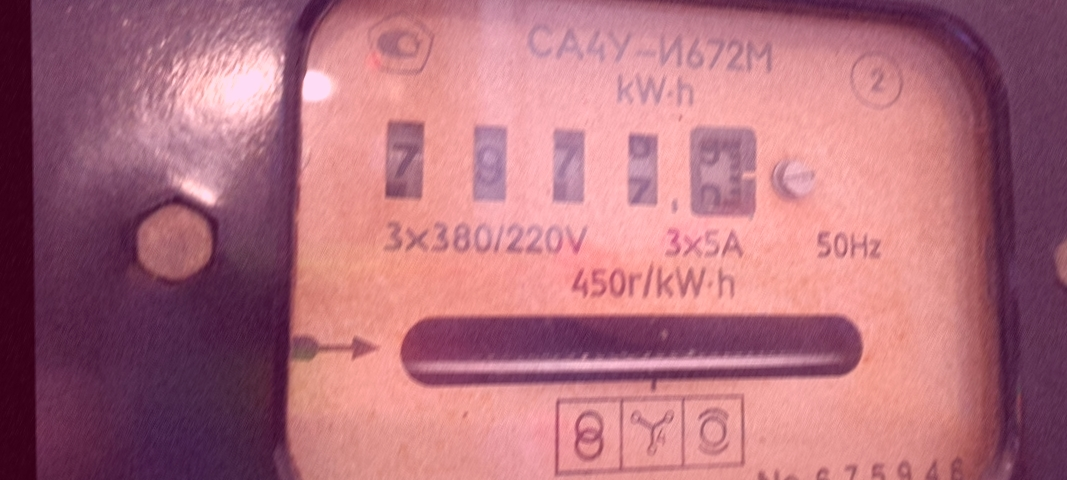0: (696, 179, 720, 209)
7: (385, 137, 420, 183), (623, 167, 654, 209), (551, 140, 580, 181)
9: (471, 141, 503, 189), (695, 136, 725, 168)
screen: (369, 104, 772, 235)
